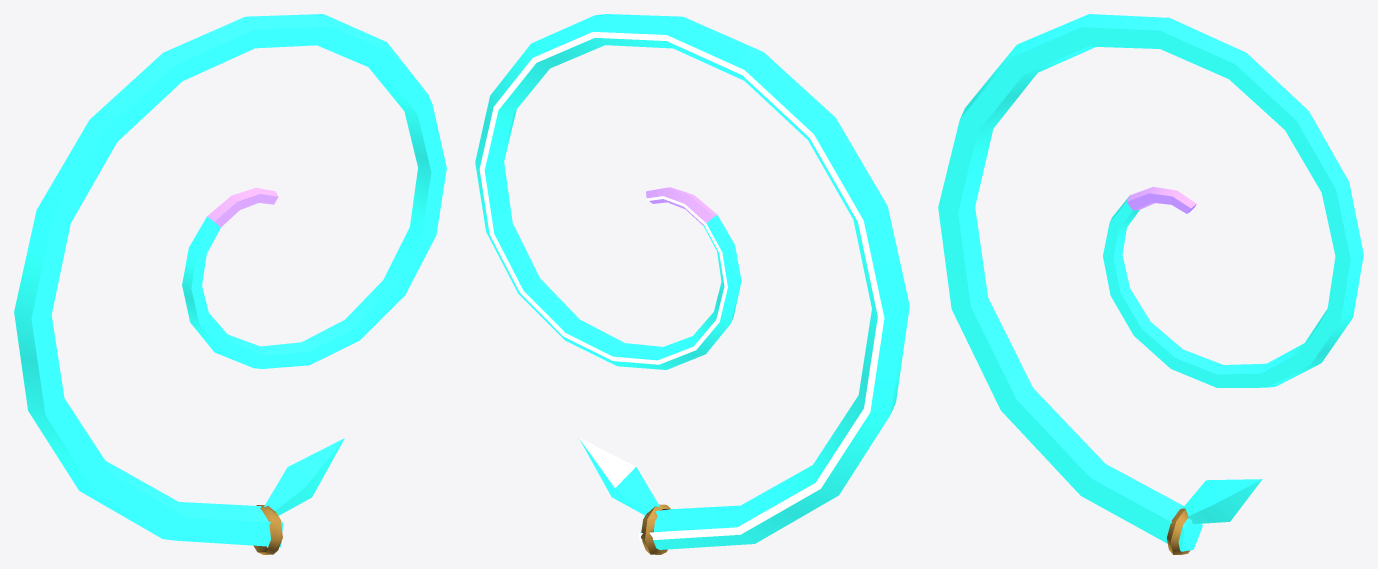
3 views of the same model, side by side, from view 1: azimuth 30°, elevation 25°; view 2: azimuth 150°, elevation 25°; view 3: azimuth 330°, elevation 25° (orthographic). The views are drawn at different scales.
Parts seen in each view (by area): view 1: glow_Living_Teal, glow_Violet_Tip, Polished_Brass; view 2: glow_Living_Teal, glow_Mint_Core, glow_Violet_Tip, Polished_Brass; view 3: glow_Living_Teal, glow_Violet_Tip, Polished_Brass.
Part boxes in pixels (box(x1,y1,x2,y2)): glow_Living_Teal: box(14, 14, 446, 547); glow_Violet_Tip: box(207, 187, 278, 227); Polished_Brass: box(253, 505, 282, 554); glow_Living_Teal: box(475, 14, 909, 549); glow_Mint_Core: box(479, 32, 884, 540); glow_Violet_Tip: box(646, 187, 717, 225); Polished_Brass: box(641, 504, 671, 554); glow_Living_Teal: box(938, 14, 1363, 551); glow_Violet_Tip: box(1126, 187, 1196, 213); Polished_Brass: box(1167, 508, 1190, 554).
Size of the model in its own units: 0.6449 by 0.7769 by 0.071.
Materials: 4 (1 with a texture image).
